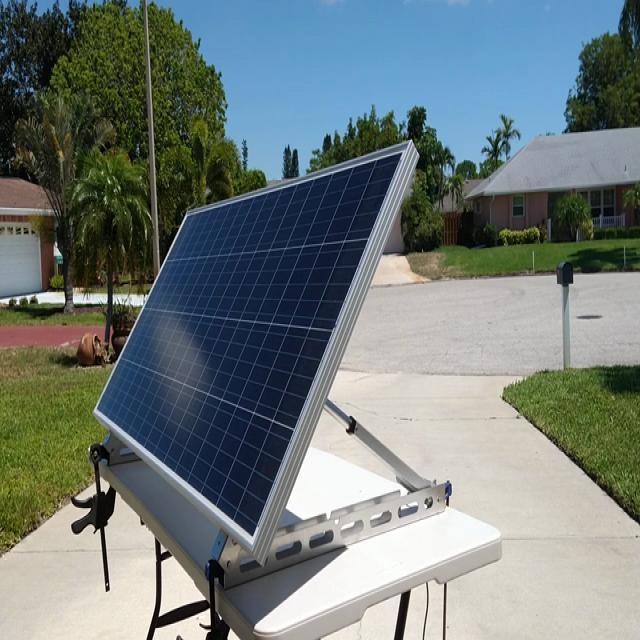Normal Solar Panel: (93, 144, 411, 549)
